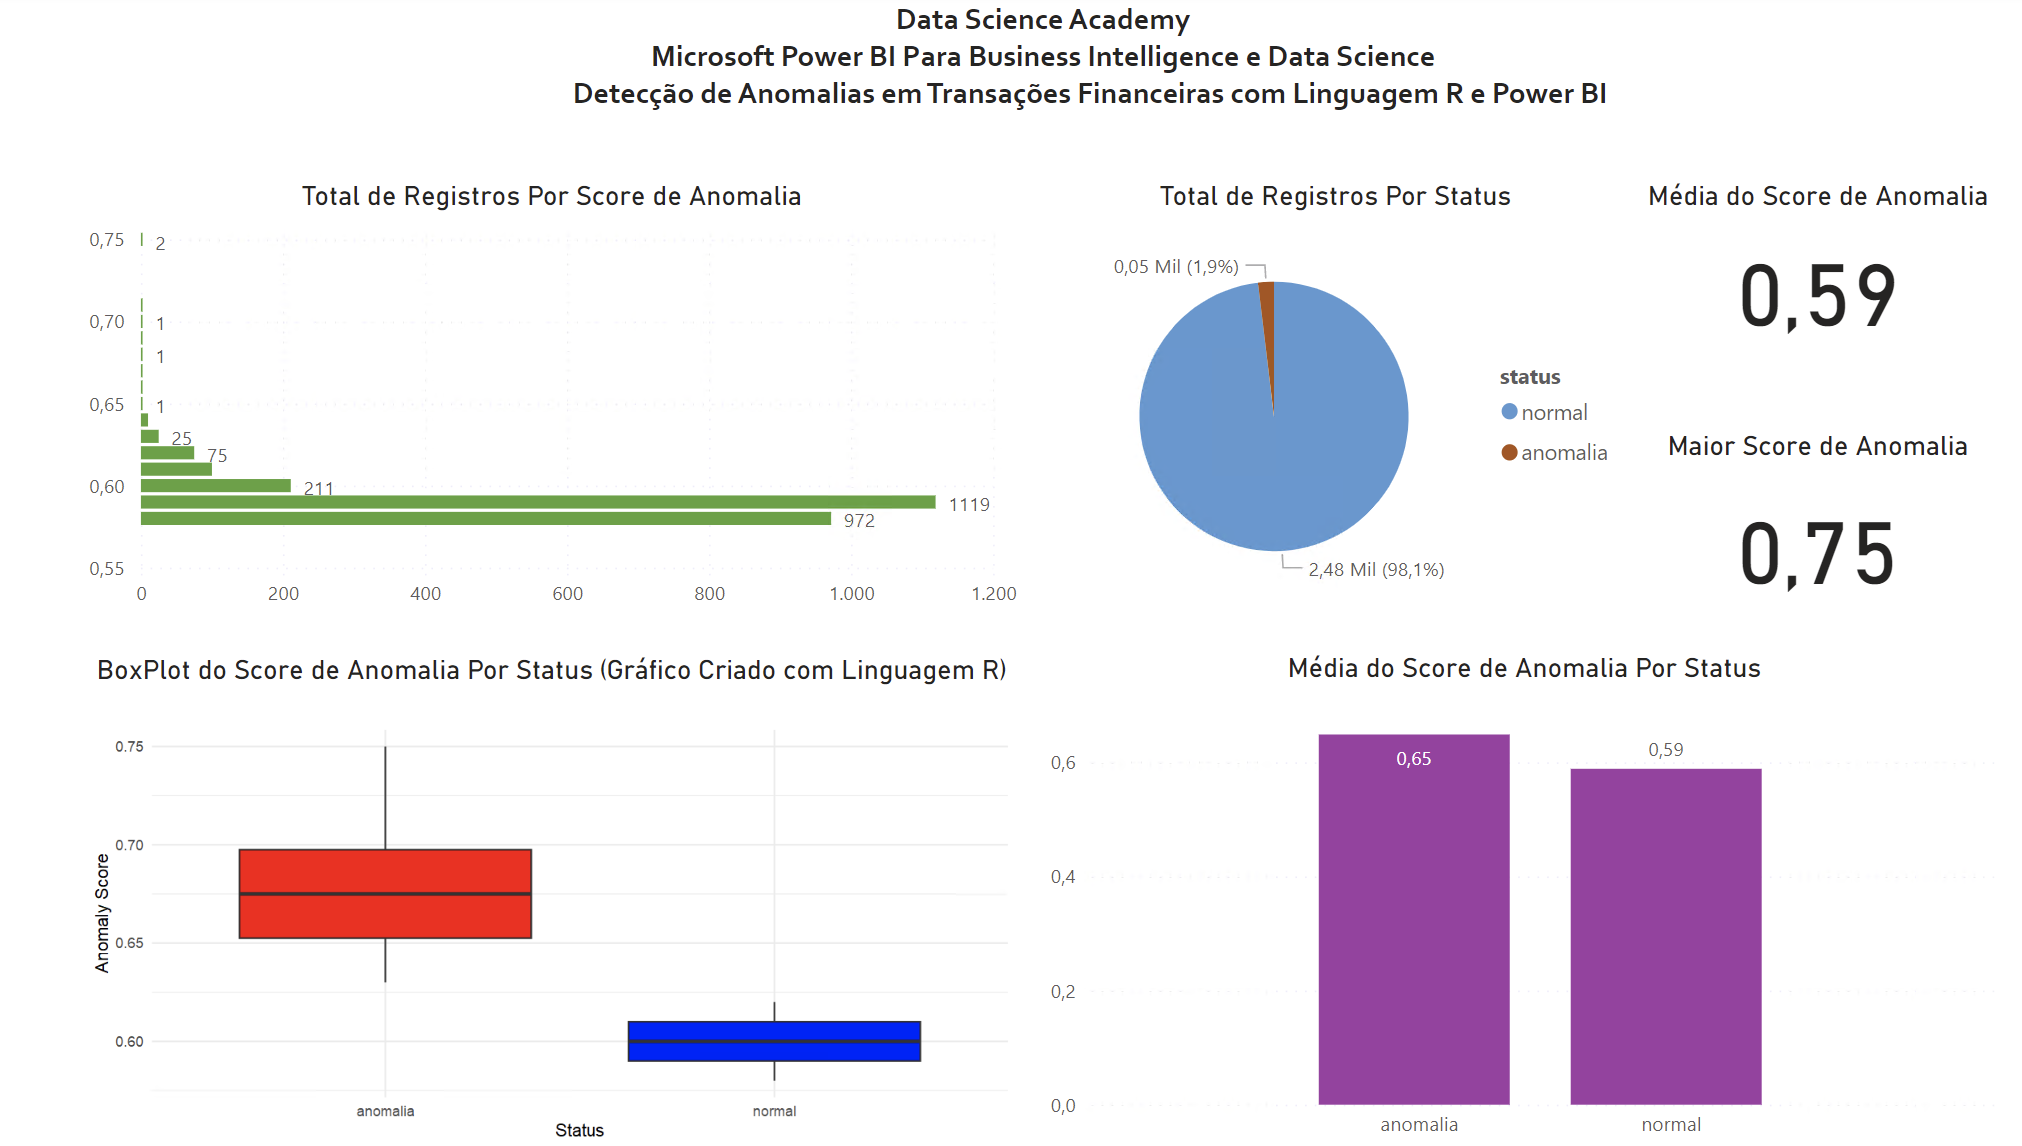

This screenshot's page, from the dashboard's own definition file:
{"tool":"powerbi","page":{"name":"Lab8","canvas":[1280,720],"ordinal":0},"visuals":[{"type":"pieChart","title":"Total de Registros Por Status","fields":{"Category":["previsoes_novos_dados.status"],"Y":["CountNonNull(previsoes_novos_dados.id)"]},"box":[663.1,116.6,366.1,273.9],"z":0},{"type":"scriptVisual","title":"BoxPlot do Score de Anomalia Por Status (Gráfico Criado com Linguagem R)","fields":{"Values":["previsoes_novos_dados.status","previsoes_novos_dados.anomaly_score"]},"box":[66.6,410,586.7,311.5],"z":1000},{"type":"barChart","title":"Total de Registros Por Score de Anomalia","fields":{"Category":["previsoes_novos_dados.anomaly_score"],"Y":["CountNonNull(previsoes_novos_dados.anomaly_score)"]},"box":[66.4,116.6,587.1,273.9],"z":2000},{"type":"columnChart","title":"Média do Score de Anomalia Por Status","fields":{"Category":["previsoes_novos_dados.status"],"Y":["Avg(previsoes_novos_dados.anomaly_score)"]},"box":[664.4,409.5,598,310.5],"z":3000},{"type":"card","title":"Média do Score de Anomalia","fields":{"Values":["Avg(previsoes_novos_dados.anomaly_score)"]},"box":[1029.2,116.6,233.2,109.8],"z":4000},{"type":"card","title":"Maior Score de Anomalia","fields":{"Values":["Max(previsoes_novos_dados.anomaly_score)"]},"box":[1029.2,271.2,233.2,119.3],"z":5000},{"type":"textbox","box":[66.4,0,1195.9,90.8],"z":6000}]}

Visuals, with their boxes in screenshot pixels (x1, y1, x2, y2), scaled from the page's 1280x720 canvas onto the 2022x1146 screenshot:
"Total de Registros Por Status" pieChart: x1=1047, y1=186, x2=1626, y2=622
"BoxPlot do Score de Anomalia Por Status (Gráfico Criado com Linguagem R)" scriptVisual: x1=105, y1=653, x2=1032, y2=1145
"Total de Registros Por Score de Anomalia" barChart: x1=105, y1=186, x2=1032, y2=622
"Média do Score de Anomalia Por Status" columnChart: x1=1050, y1=652, x2=1994, y2=1145
"Média do Score de Anomalia" card: x1=1626, y1=186, x2=1994, y2=360
"Maior Score de Anomalia" card: x1=1626, y1=432, x2=1994, y2=622
textbox: x1=105, y1=0, x2=1994, y2=145
